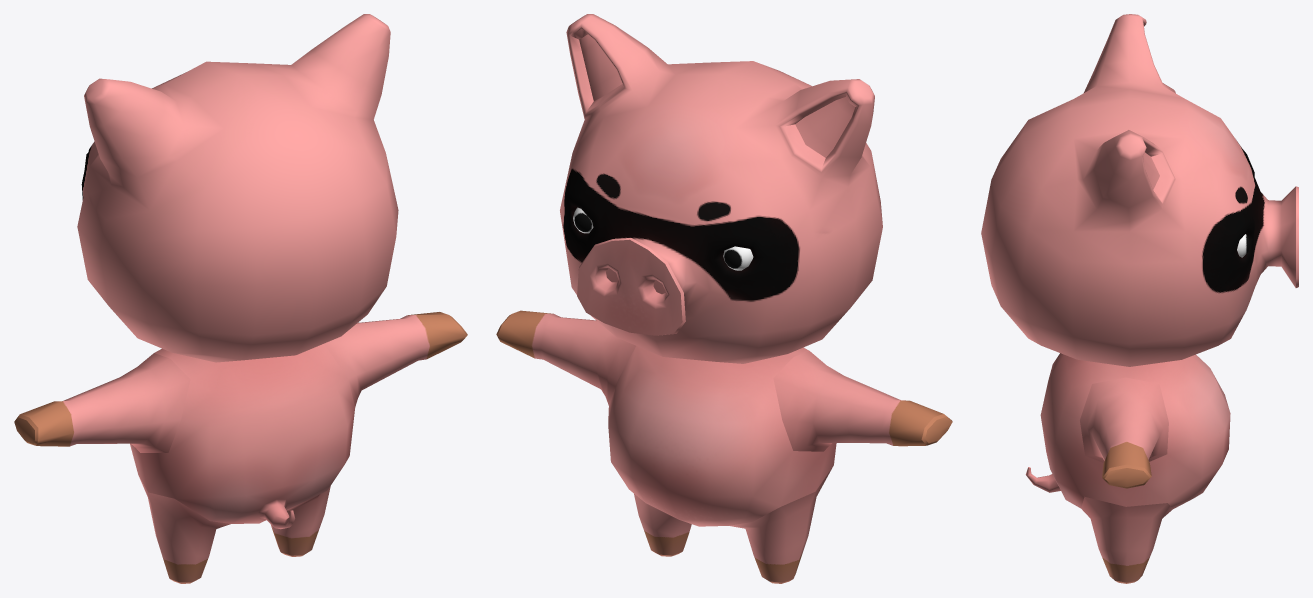
The model's file is PIG.glb.
3 renders of one model, left to right at view 1: azimuth 30°, elevation 25°; view 2: azimuth 150°, elevation 25°; view 3: azimuth 270°, elevation 25°, orthographic. The views are drawn at different scales.
Visible parts, largest first — view 1: Pig; view 2: Pig; view 3: Pig.
Part boxes in pixels (box(x1,y1,x2,y2)): Pig: box(14, 14, 467, 583); Pig: box(496, 14, 952, 583); Pig: box(981, 14, 1298, 583).
Size of the model in its own units: 1.69 by 1.92 by 1.15.
Materials: 1 (1 with a texture image).
